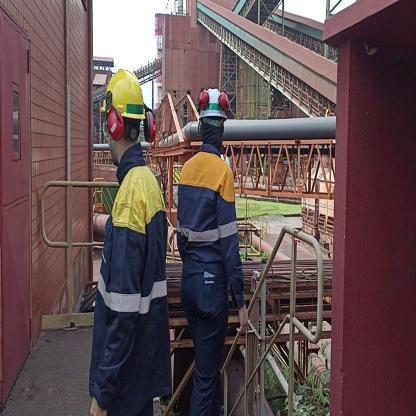Balaclava: (200, 118, 224, 151)
C_eletrica: (92, 176, 172, 398)
Capacete: (102, 67, 146, 116), (200, 87, 227, 118)
Operacional: (177, 154, 244, 306)
